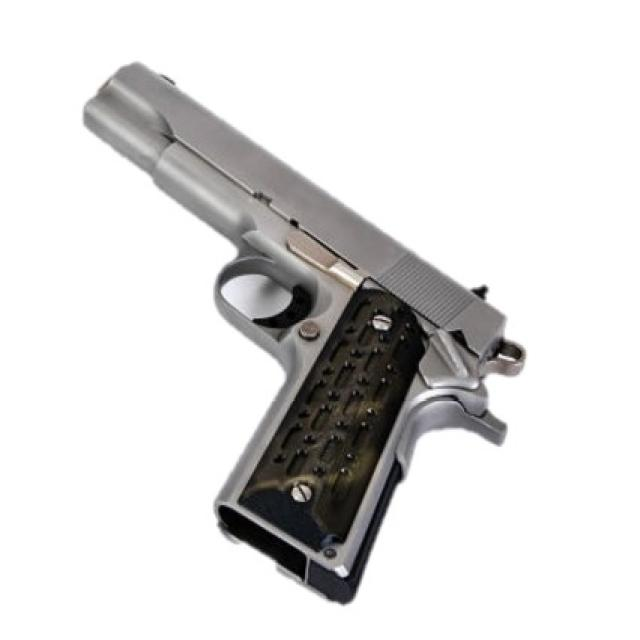pistol: (75, 41, 532, 613)
